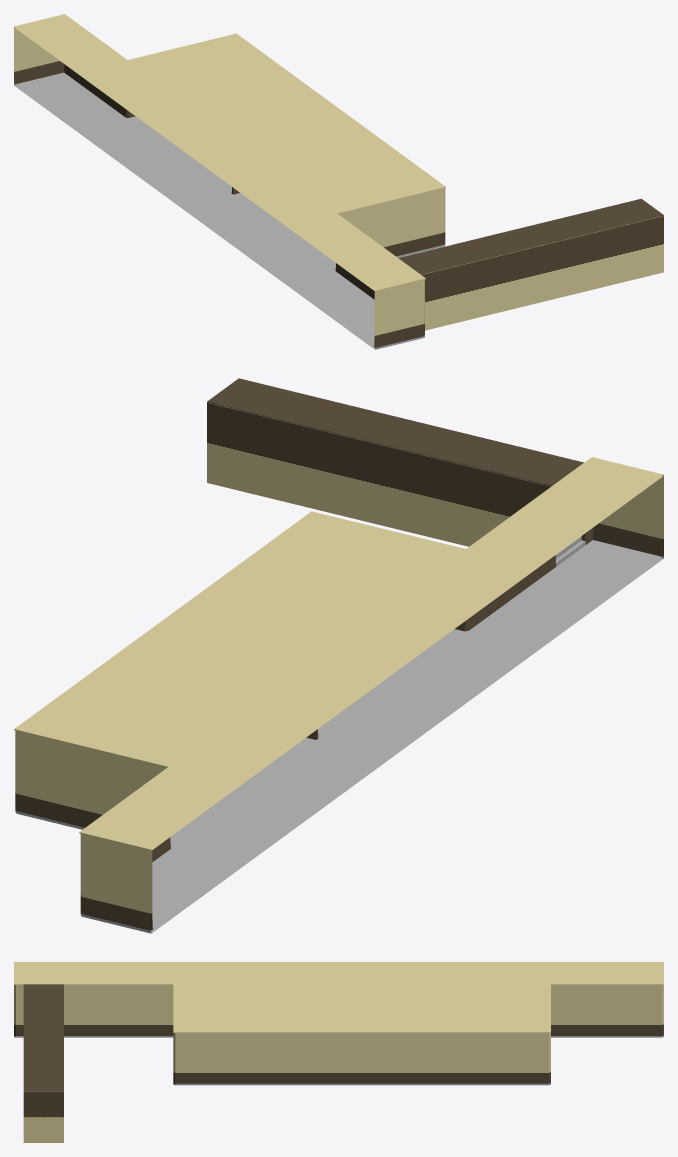
The model's file is interior_school_chapterOne_partOne_saveRoom.fbx.
3 views of the same model, one above another, from view 1: azimuth 30°, elevation 25°; view 2: azimuth 150°, elevation 25°; view 3: azimuth 270°, elevation 25° (orthographic). The views are drawn at different scales.
Visible parts, largest first — view 1: Visible Mesh; view 2: Visible Mesh; view 3: Visible Mesh.
Part boxes in pixels (bbox=[...]): Visible Mesh: bbox=[14, 14, 663, 349]; Visible Mesh: bbox=[14, 378, 663, 933]; Visible Mesh: bbox=[14, 962, 663, 1142].
Bounding box in the file's own units: 3297 × 633 × 7010.
